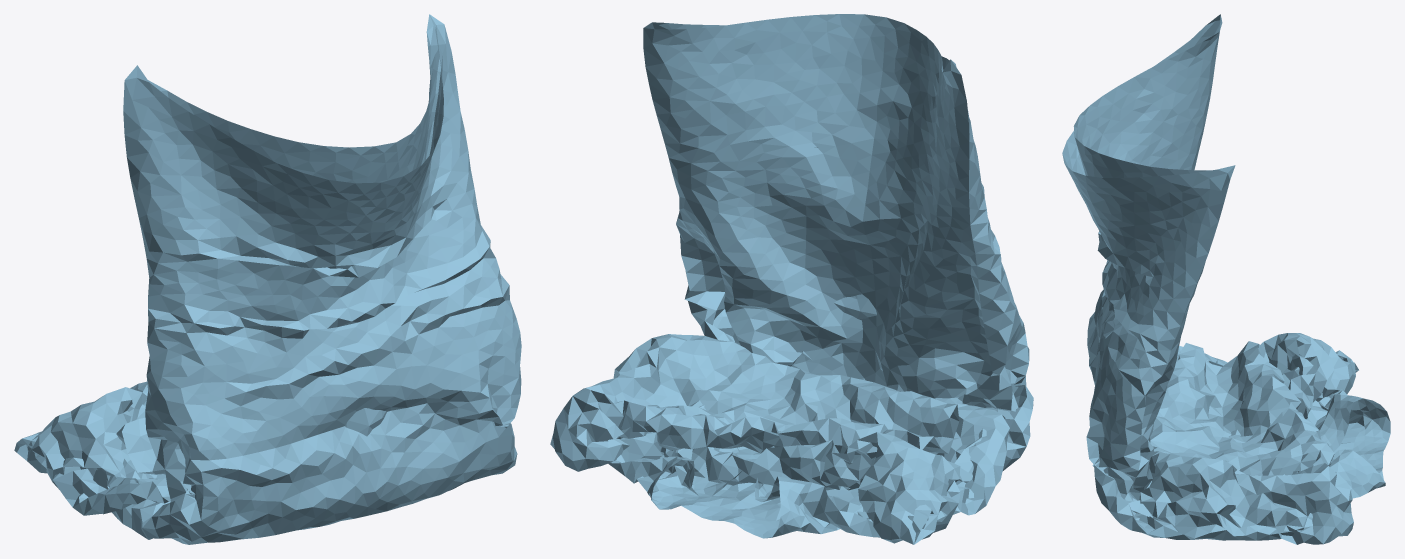
File: frame_14.glb
3 renders of one model, left to right at view 1: azimuth 30°, elevation 25°; view 2: azimuth 150°, elevation 25°; view 3: azimuth 270°, elevation 25°, orthographic. The views are drawn at different scales.
Visible parts, largest first — view 1: frame_14.obj; view 2: frame_14.obj; view 3: frame_14.obj.
Part boxes in pixels (bbox=[...]): frame_14.obj: bbox=[14, 14, 521, 544]; frame_14.obj: bbox=[550, 14, 1033, 544]; frame_14.obj: bbox=[1062, 14, 1390, 544].
Size of the model in its own units: 0.9415 by 1.02 by 0.7713.
